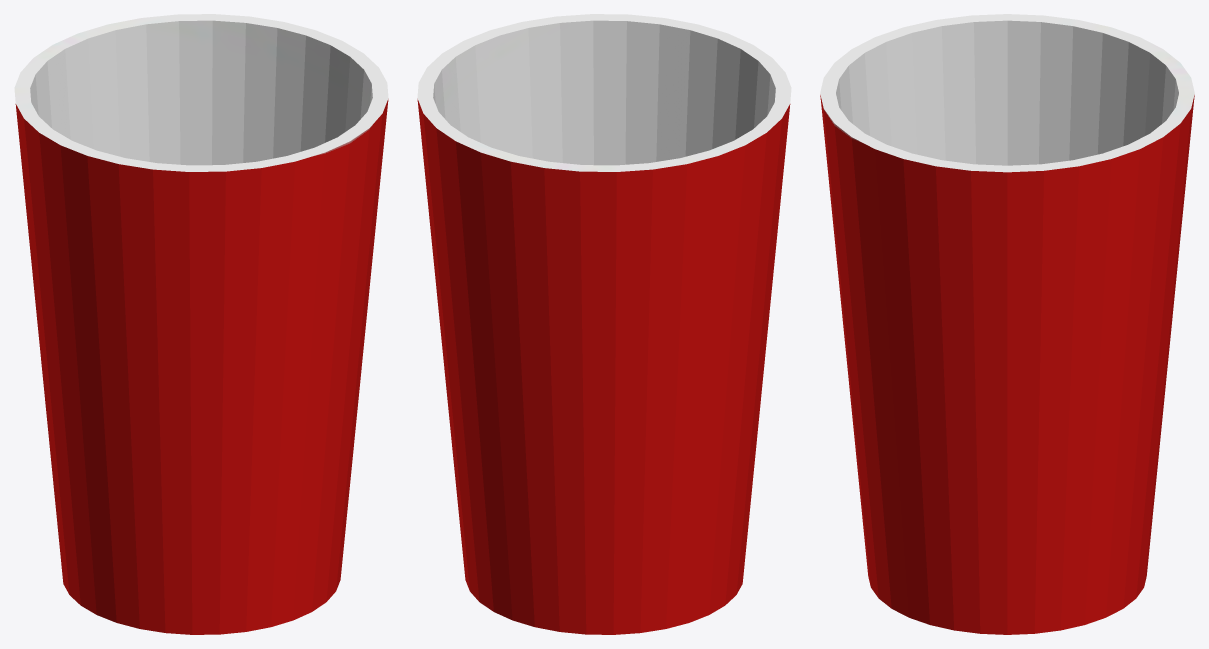
File: cup.glb
3 renders of one model, left to right at view 1: azimuth 30°, elevation 25°; view 2: azimuth 150°, elevation 25°; view 3: azimuth 270°, elevation 25°, orthographic.
Parts seen in each view (by area): view 1: Cylinder; view 2: Cylinder; view 3: Cylinder.
Part boxes in pixels (x1,y1,x2,y2): Cylinder: (14,14,388,634); Cylinder: (417,14,791,634); Cylinder: (820,14,1194,634).
Bounding box in the file's own units: 2.08 × 2.95 × 2.08.
Materials: 1 (1 with a texture image).
